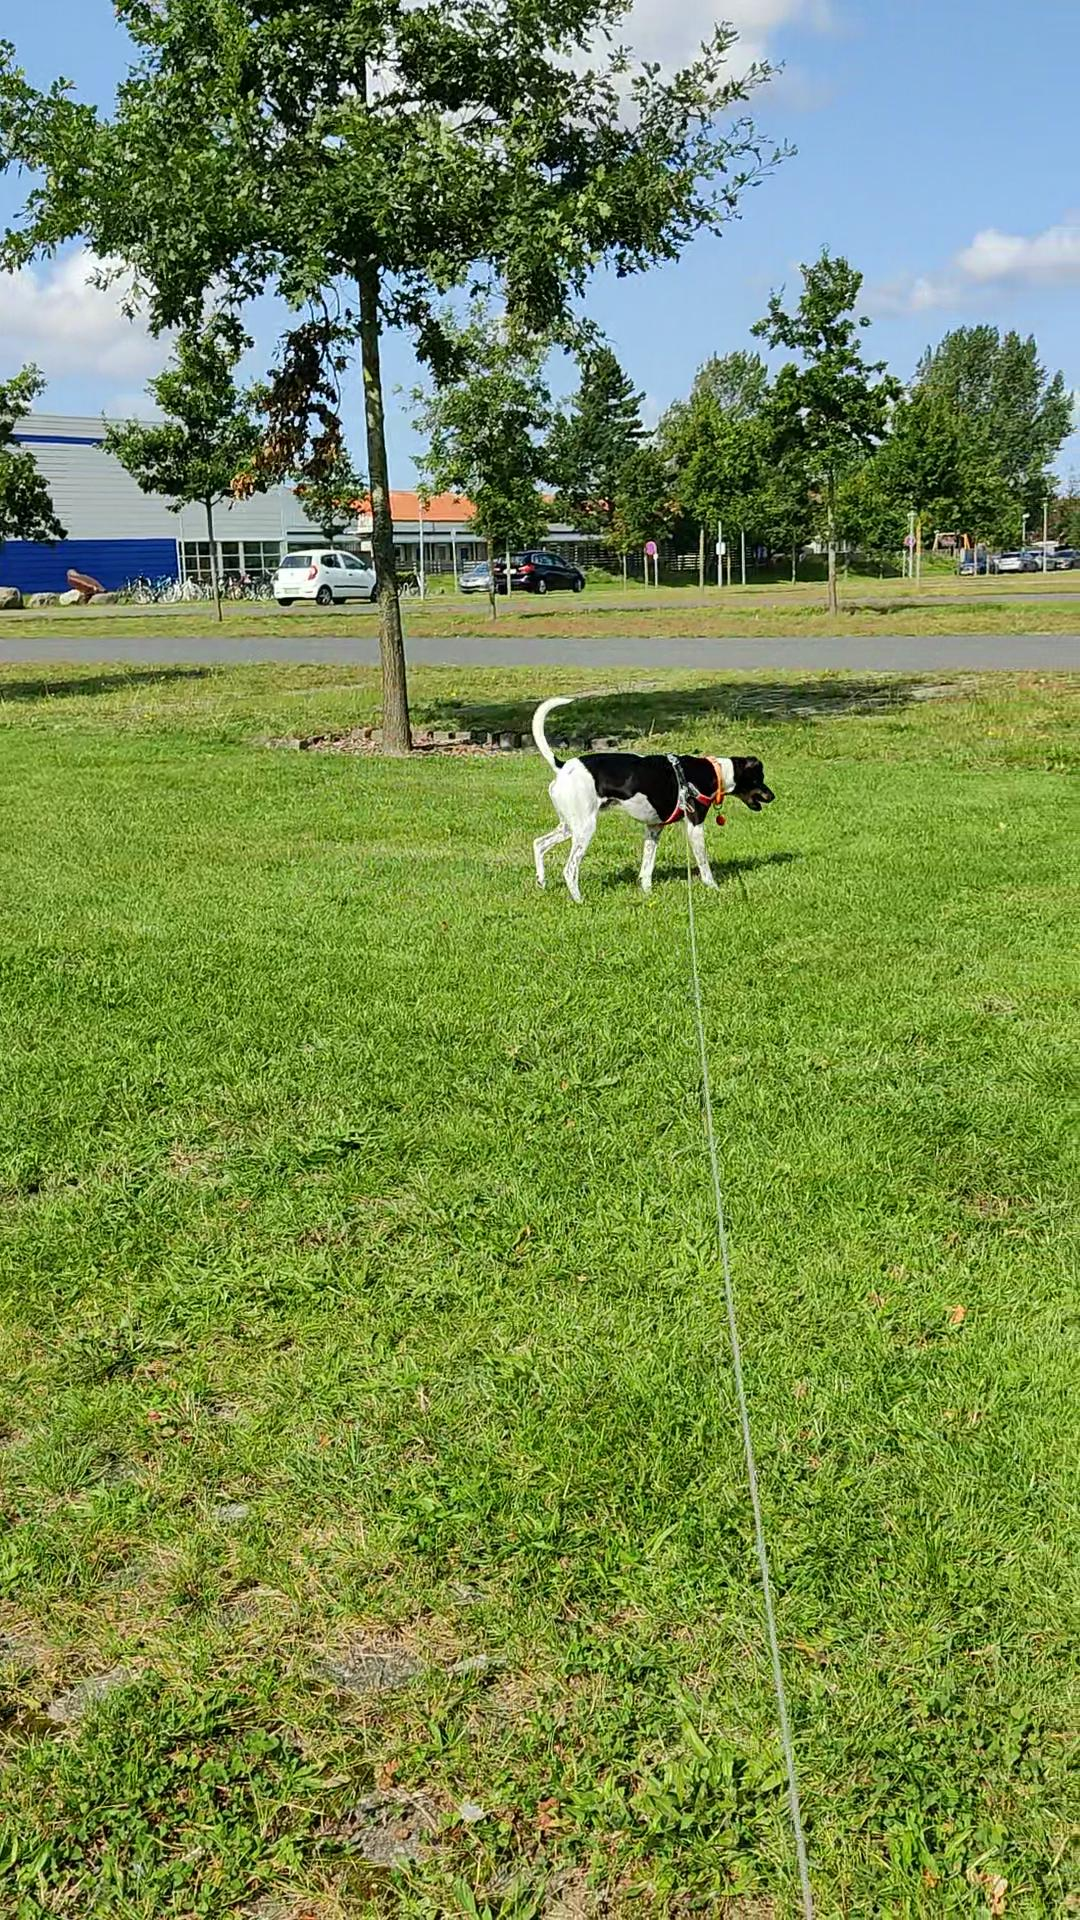Dog: (512, 691, 781, 903)
